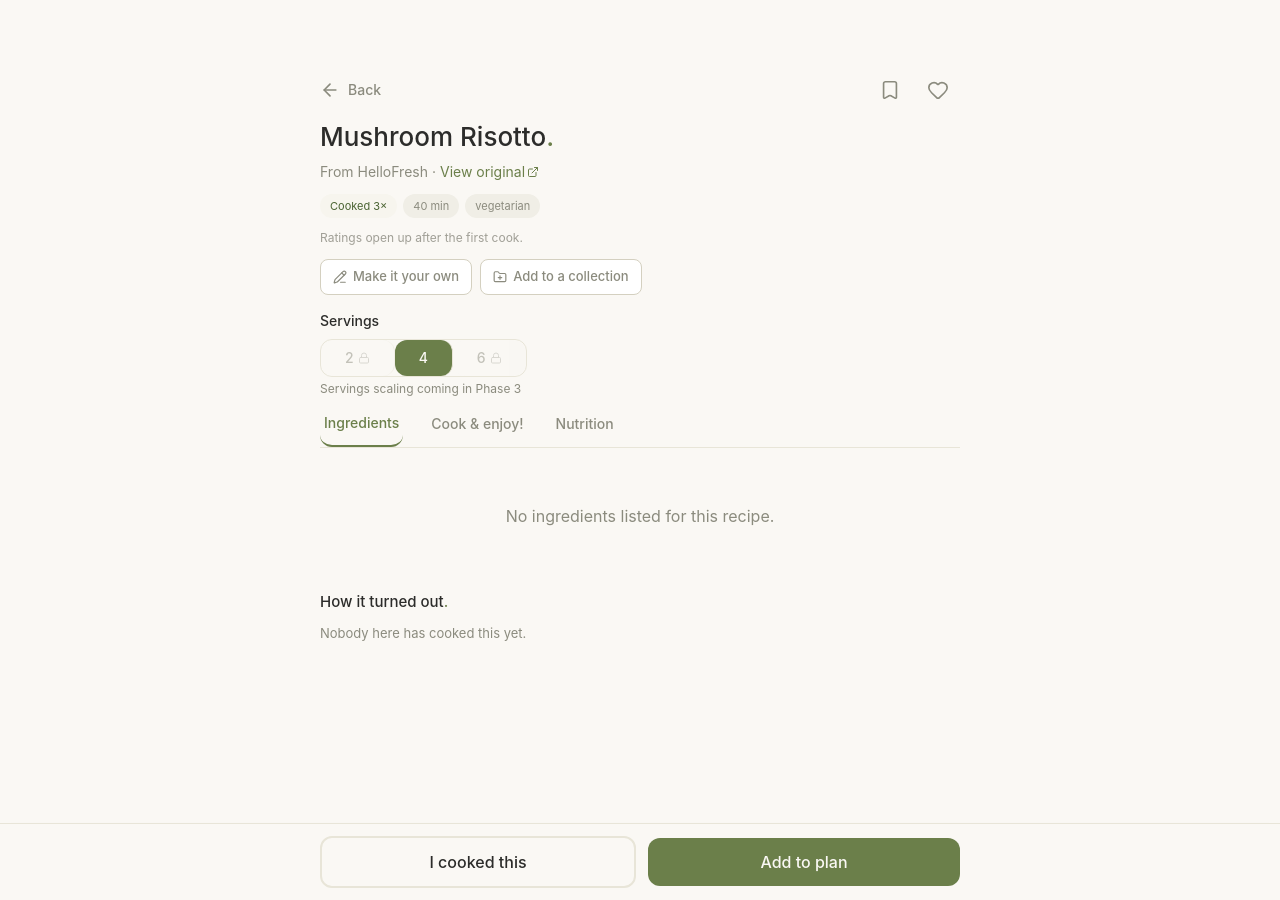
RecipeDetail › "Add to plan" sheet › shows confirmation banner after successful plan entry
Click the button "Add to plan" at (804, 862), box [648,838,960,886]
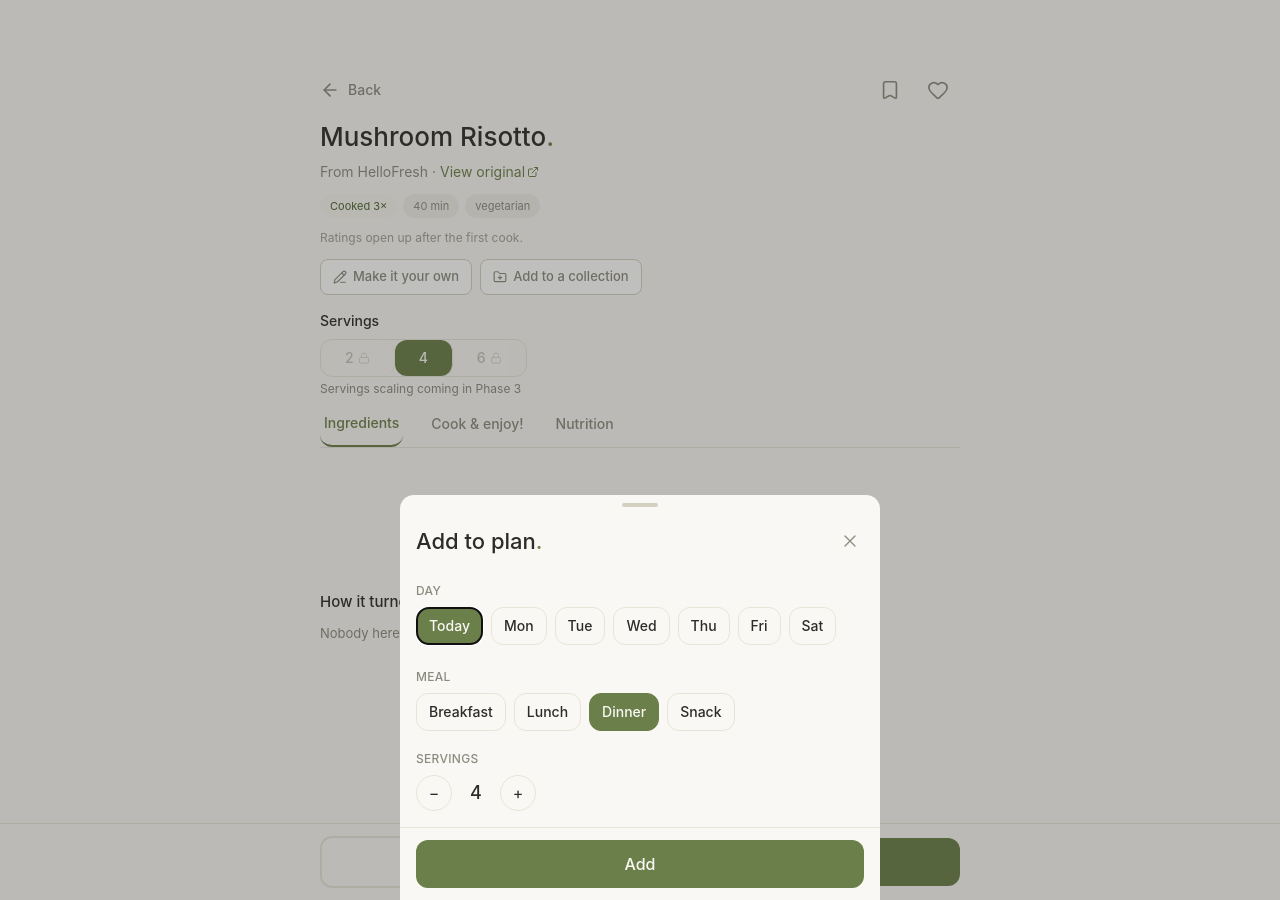
Check: the dialog is shown, box [400,495,880,899]
Click the button "Add" at (640, 864), box [416,840,864,888]
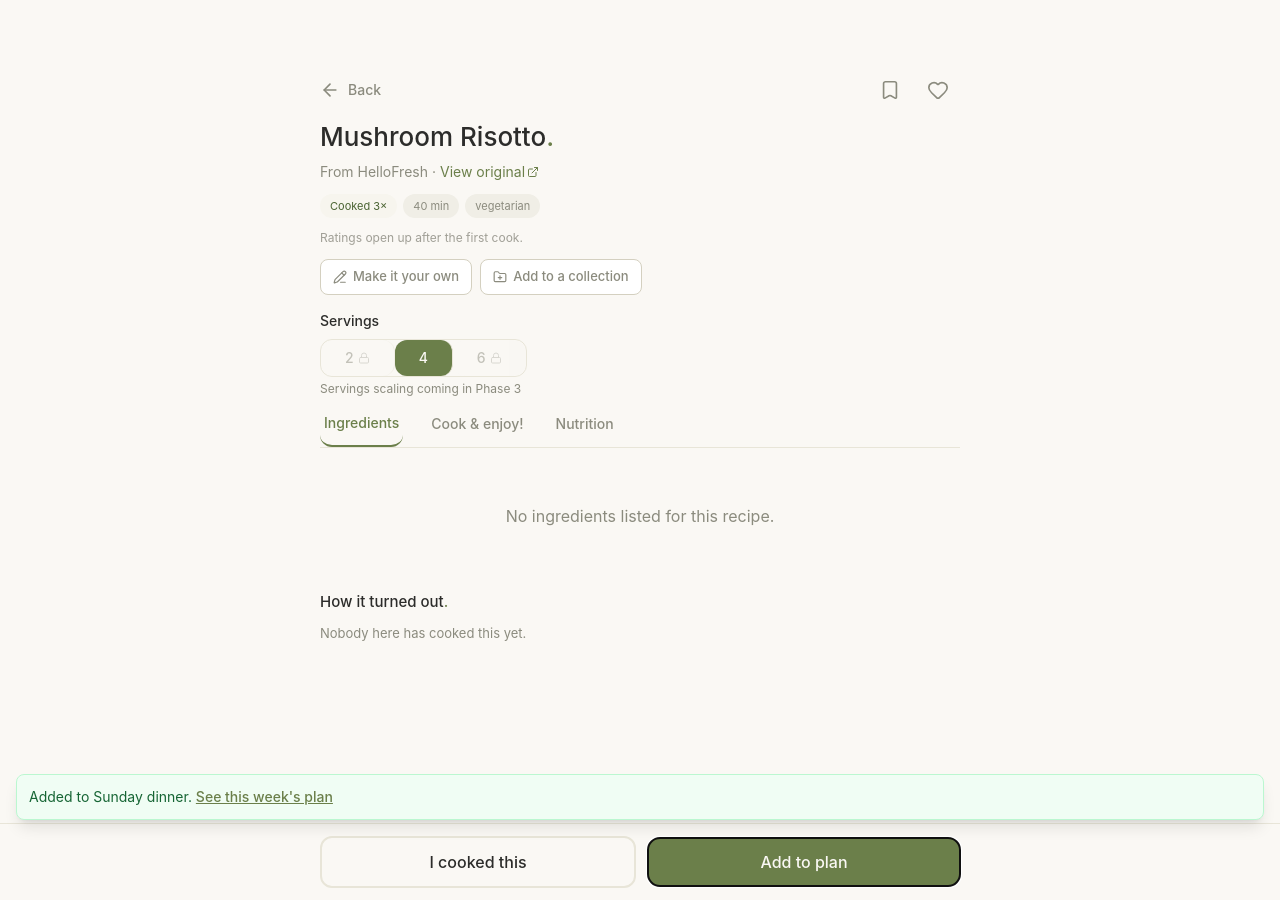
Check: the text "Added to Sunday dinner. See this week's plan" is shown, box [29,788,333,805]
